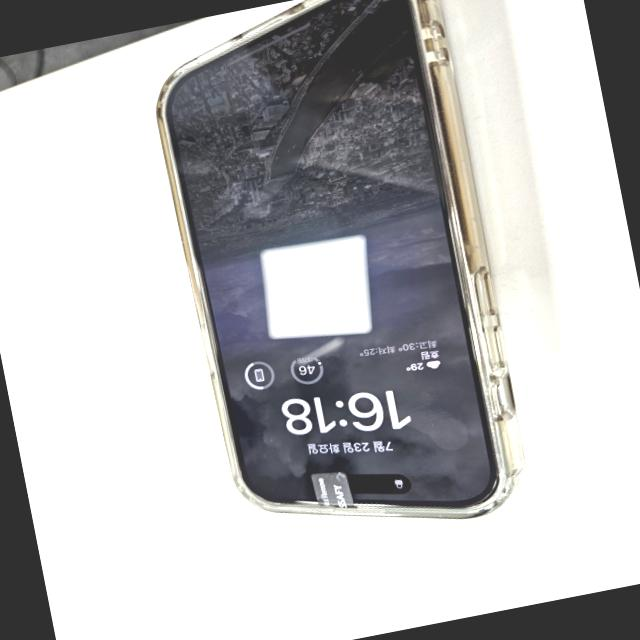phone: (141, 0, 541, 561)
sticker: (310, 467, 354, 514)
